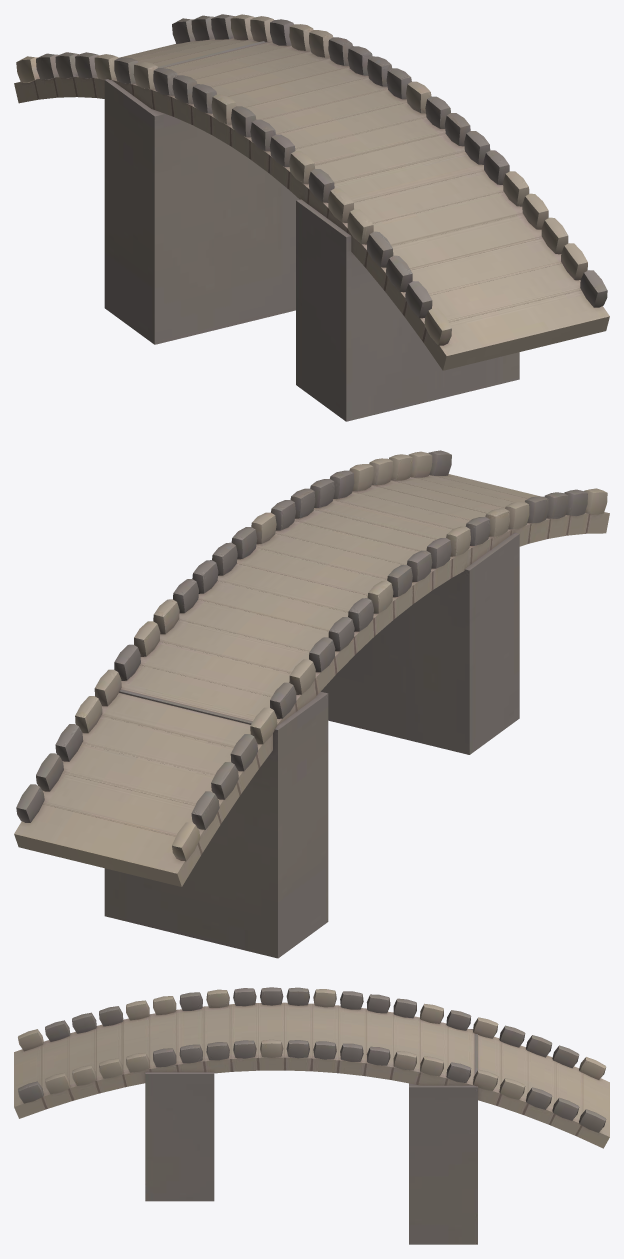
File: bridge.glb
3 renders of one model, top to bottom at view 1: azimuth 30°, elevation 25°; view 2: azimuth 150°, elevation 25°; view 3: azimuth 270°, elevation 25°, orthographic. The views are drawn at different scales.
Parts seen in each view (by area): view 1: main; view 2: main; view 3: main.
Part boxes in pixels (x1,y1,x2,y2): main: (14,14,609,421); main: (14,450,609,958); main: (14,987,609,1244).
Size of the model in its own units: 6.8 by 10.97 by 29.38.
Materials: 1 (1 with a texture image).
